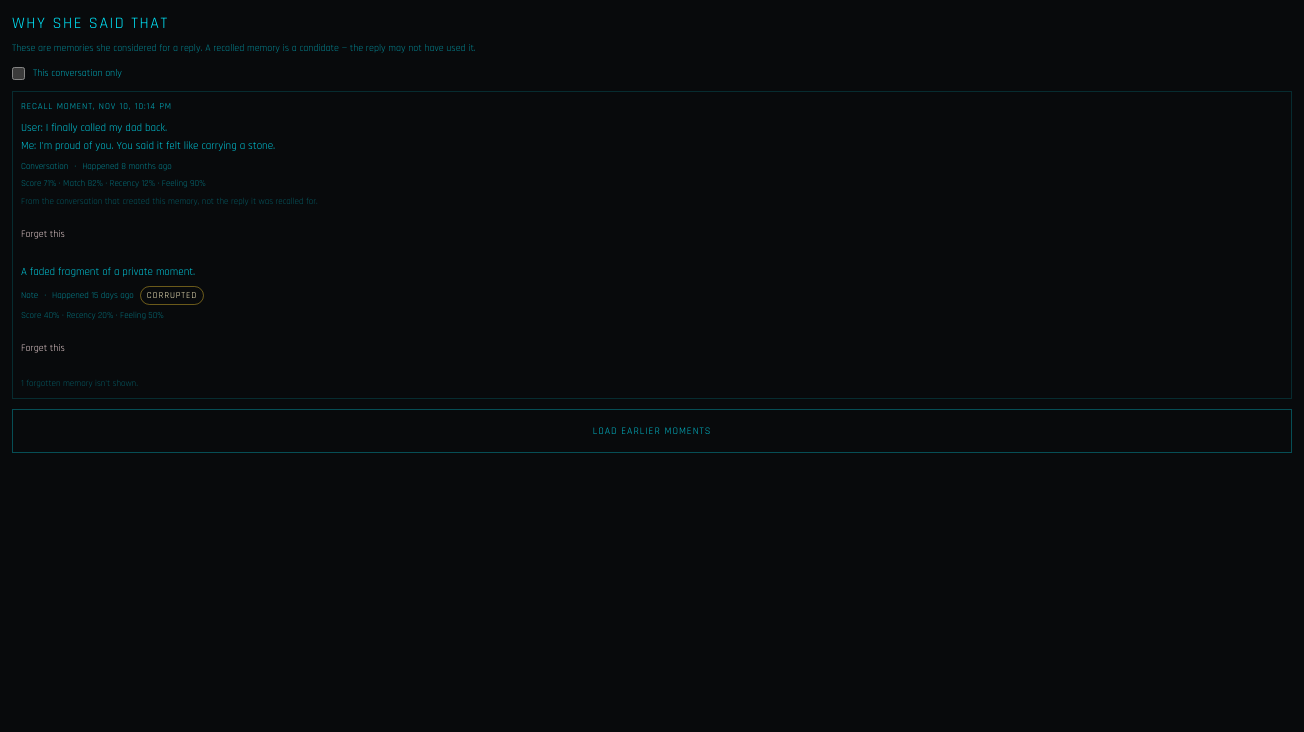
Test: RecallLedgerPanel › loads earlier moments with loadMore
Expected: the text "I finally called my dad back" is shown, [21,121,275,153]
What coordinates should you click on to do the following:
click the button with test id "recall-ledger-load-more"
I would click on:
 (652, 431)
Its box is [12,409,1292,453].
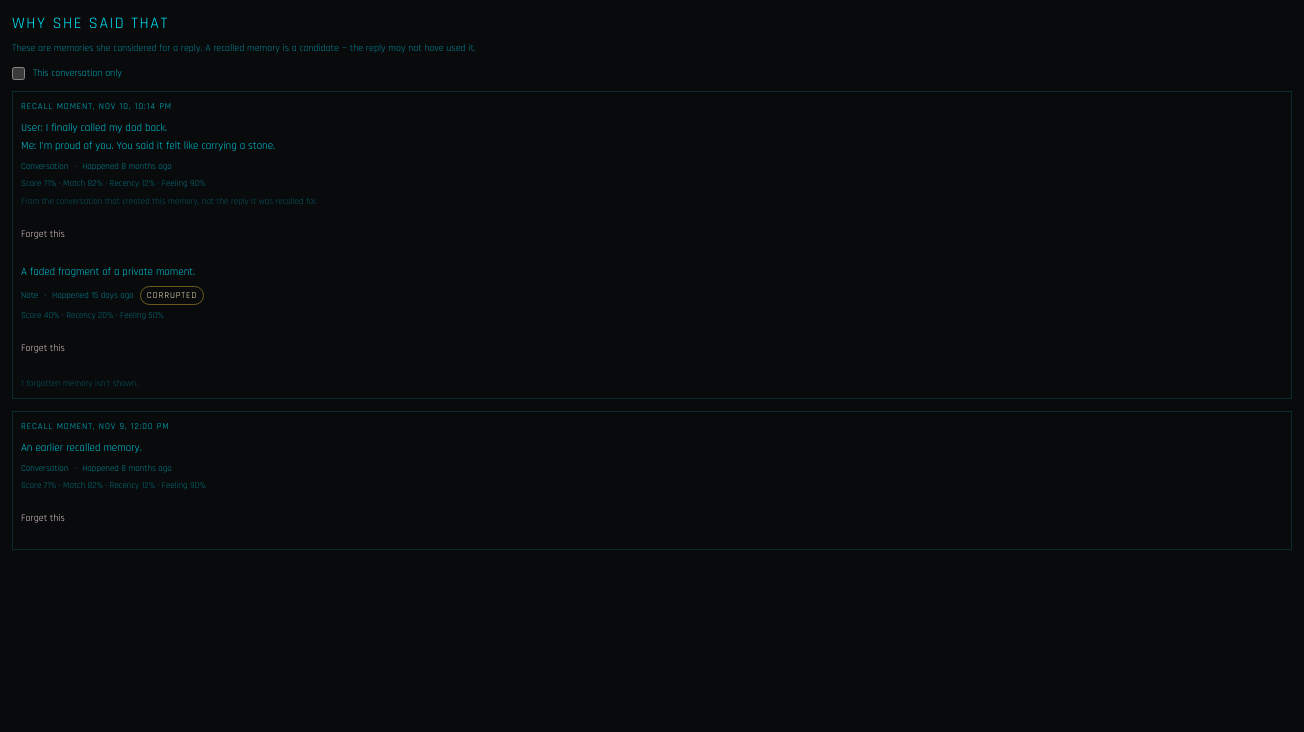
Result: the text "An earlier recalled memory." is shown at [21,441,142,455]
Result: the button with test id "recall-ledger-load-more" is gone
